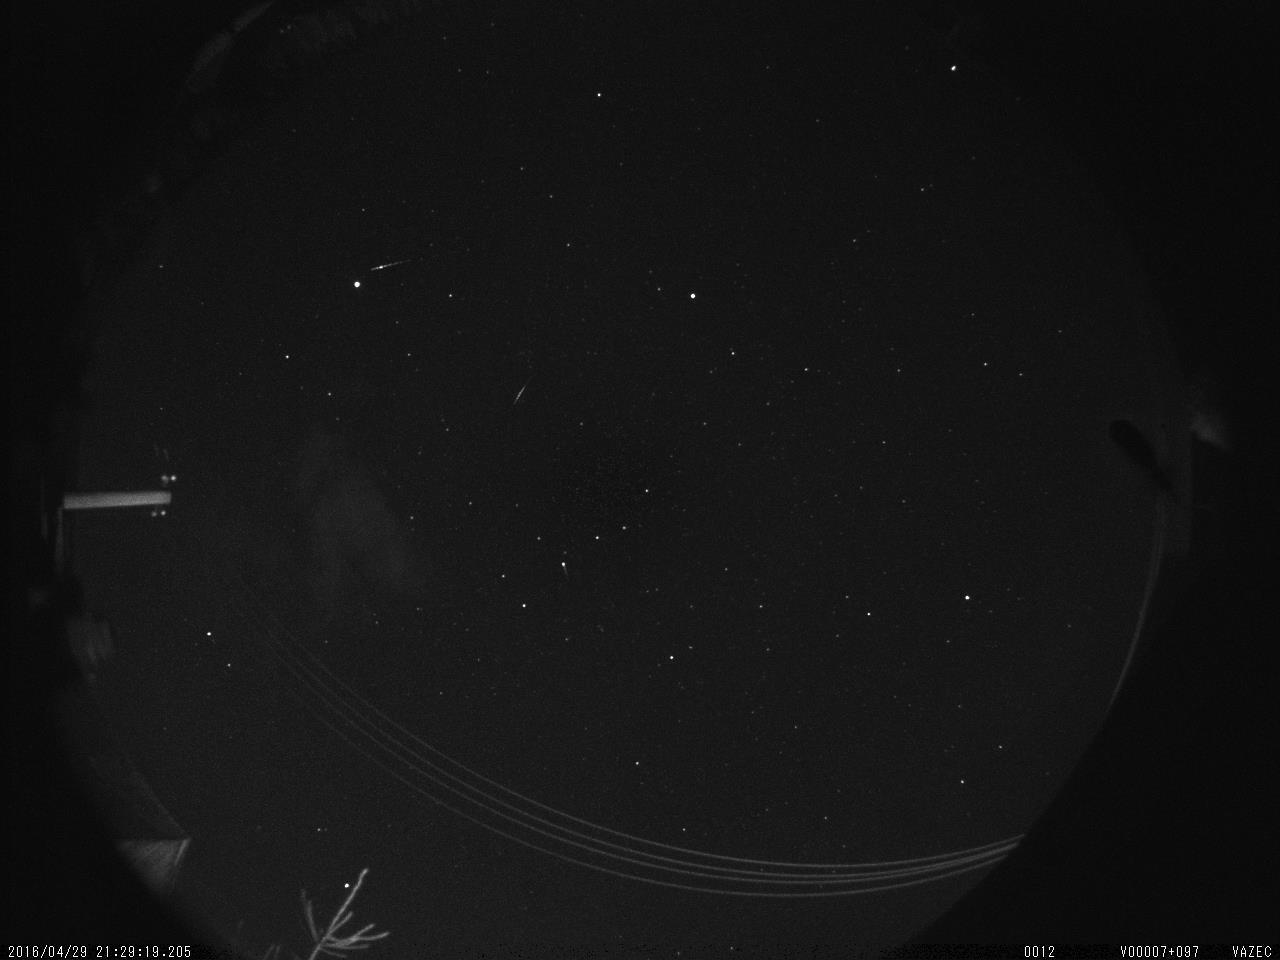Meteor: (362, 251, 414, 275), (508, 374, 540, 412)
